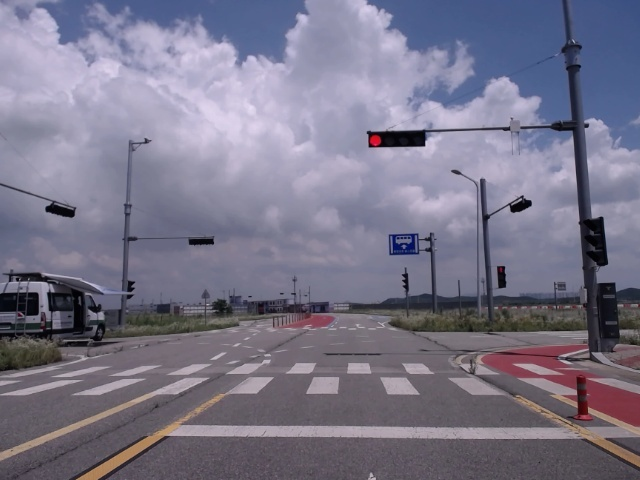red_4: (367, 131, 426, 148)
